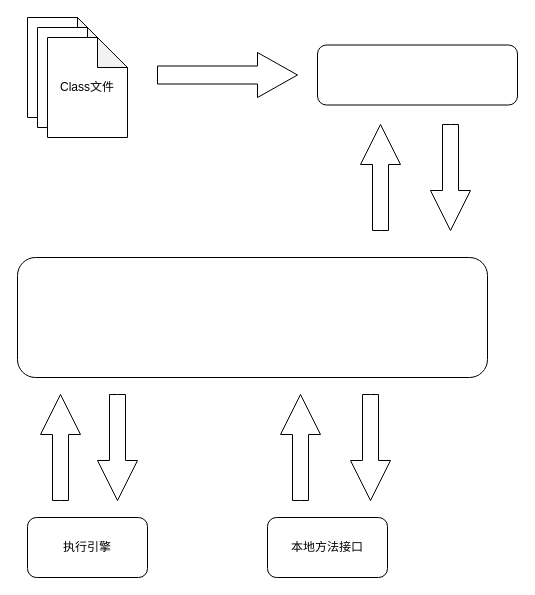
The diagram is 535 pixels wide and 595 high, and some of its shapes have lost their labels. The shapes that lost their labels are listed below. From the top down, each one's centre as x and y in pixels, then its label:
At point 417,74: "类加载子系统".
At point 252,317: "运行时数据区".
